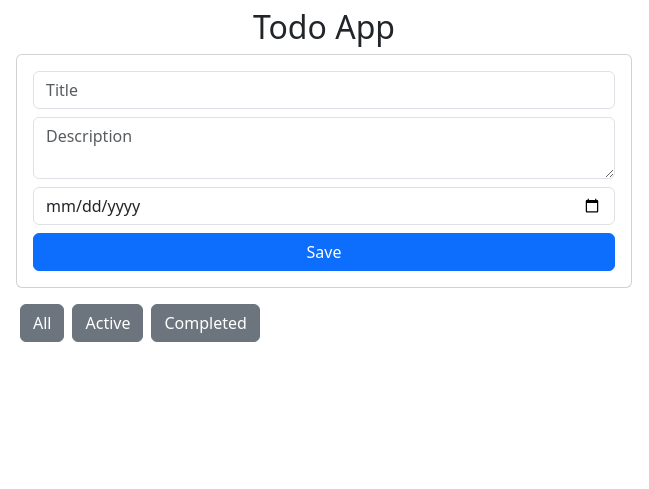
it: TodoList Component › edits a todo
The image size is (649, 489).
Step 1. Type "Old Todo" into the field with placeholder "Title" → coordinates (324, 90), box [33, 71, 615, 109]
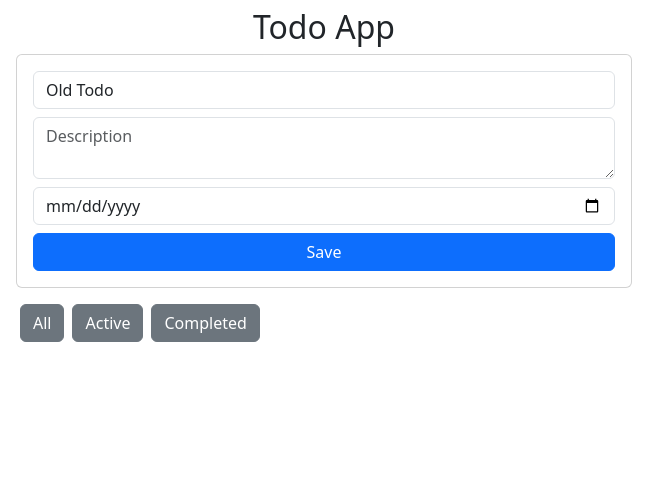
Step 2. Click the button "Save" → coordinates (324, 252), box [33, 233, 615, 271]
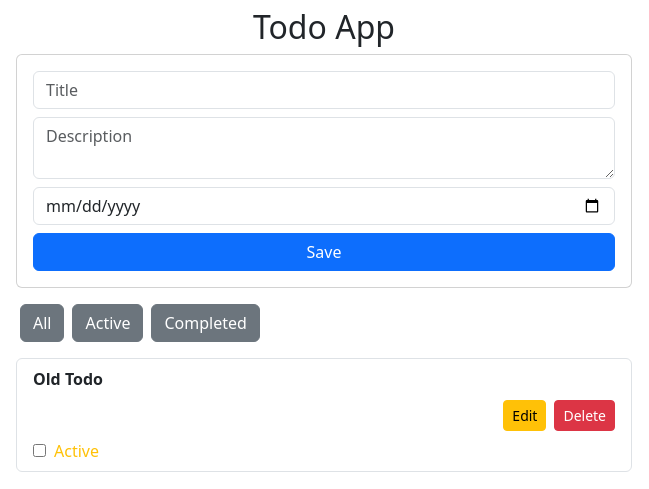
Step 3. Click the button "Edit" → coordinates (525, 415), box [503, 400, 546, 431]
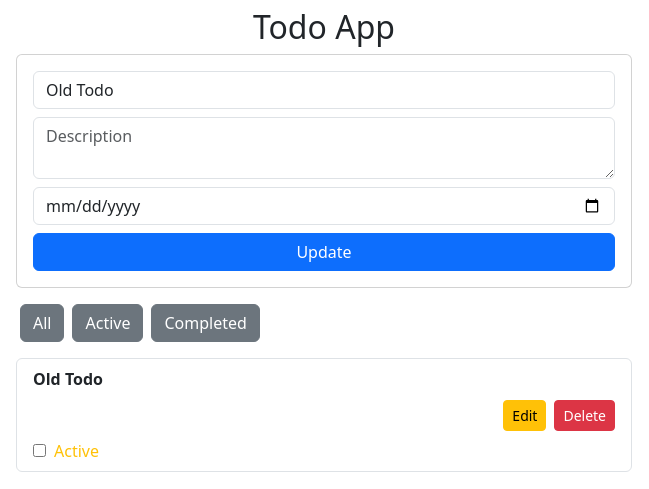
Step 4. Replace the text in the field with placeholder "Title" with "Updated Todo" → coordinates (324, 90), box [33, 71, 615, 109]
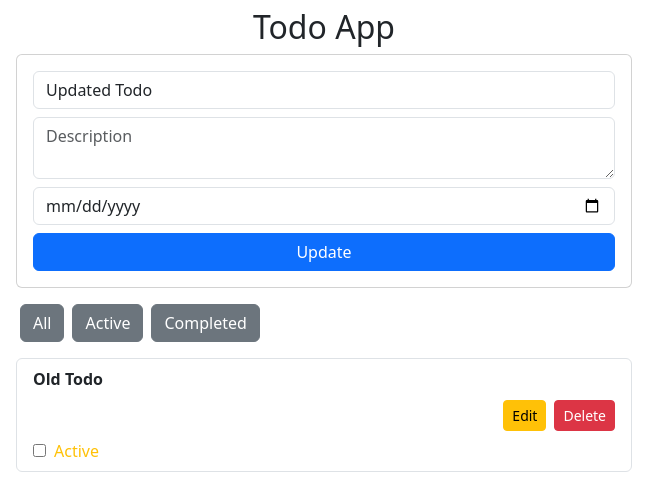
Step 5. Click the button "Update" → coordinates (324, 252), box [33, 233, 615, 271]
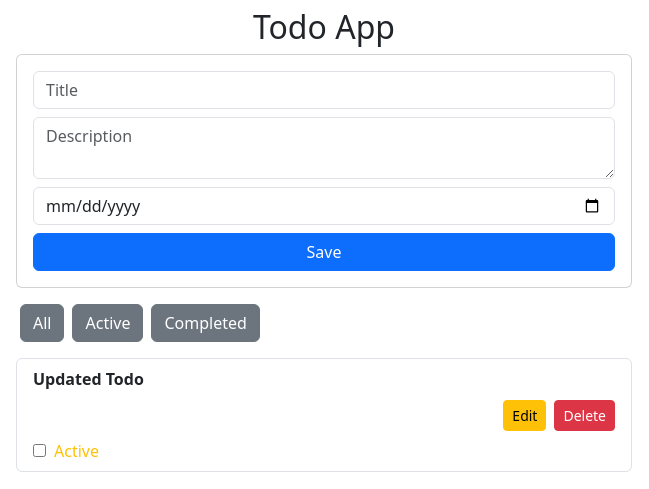
Result: the text "Updated Todo" is shown at [33, 368, 144, 390]
